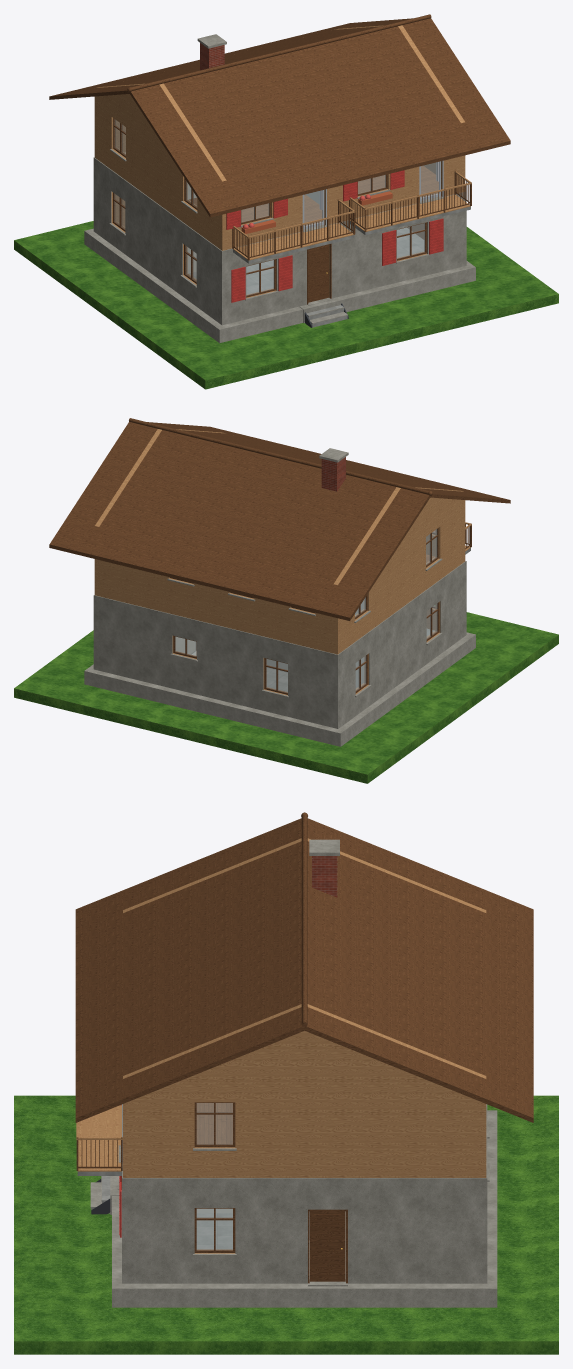
The model's file is b_swiss_chalet.gltf.
3 renders of one model, top to bottom at view 1: azimuth 30°, elevation 25°; view 2: azimuth 150°, elevation 25°; view 3: azimuth 270°, elevation 25°, orthographic. The views are drawn at different scales.
Parts seen in each view (by area): view 1: S_swiss_chalet, D_swiss_chalet_F1_S2_Door0, D_swiss_chalet_F2_S1_Door0, D_swiss_chalet_F2_S3_Door0; view 2: S_swiss_chalet; view 3: S_swiss_chalet, D_swiss_chalet_F1_E1_Door0.
Part boxes in pixels (left/top/right/bottom): S_swiss_chalet: left=14, top=14, right=558, bottom=389; D_swiss_chalet_F1_S2_Door0: left=308, top=244, right=328, bottom=302; D_swiss_chalet_F2_S1_Door0: left=303, top=190, right=324, bottom=229; D_swiss_chalet_F2_S3_Door0: left=420, top=161, right=440, bottom=200; S_swiss_chalet: left=14, top=418, right=558, bottom=783; S_swiss_chalet: left=14, top=812, right=558, bottom=1354; D_swiss_chalet_F1_E1_Door0: left=310, top=1211, right=345, bottom=1281.
Size of the model in its own units: 16 by 10.43 by 15.
Materials: 21 (13 with a texture image).
